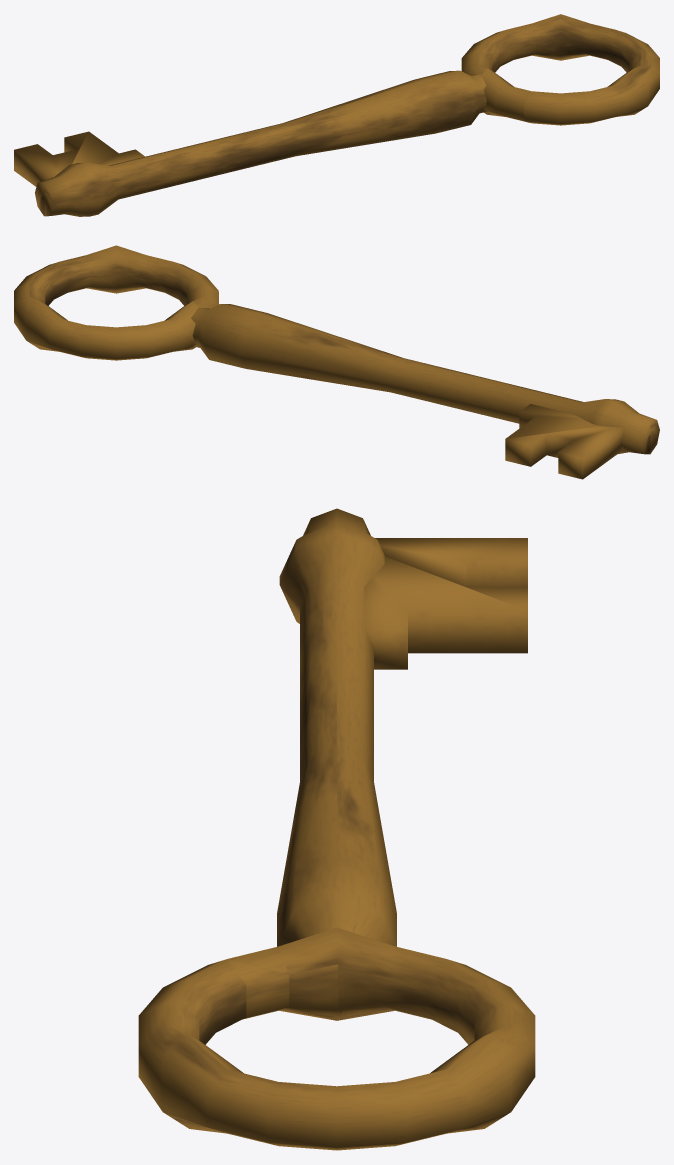
File: LilysKey.fbx
3 views of the same model, one above another, from view 1: azimuth 30°, elevation 25°; view 2: azimuth 150°, elevation 25°; view 3: azimuth 270°, elevation 25° (orthographic). The views are drawn at different scales.
Parts seen in each view (by area): view 1: LilysKey; view 2: LilysKey; view 3: LilysKey.
Part boxes in pixels (box(x1,y1,x2,y2)): LilysKey: box(14, 14, 659, 216); LilysKey: box(14, 245, 659, 479); LilysKey: box(138, 508, 535, 1150).
Size of the model in its own units: 0.1023 by 0.0088 by 0.0291.
